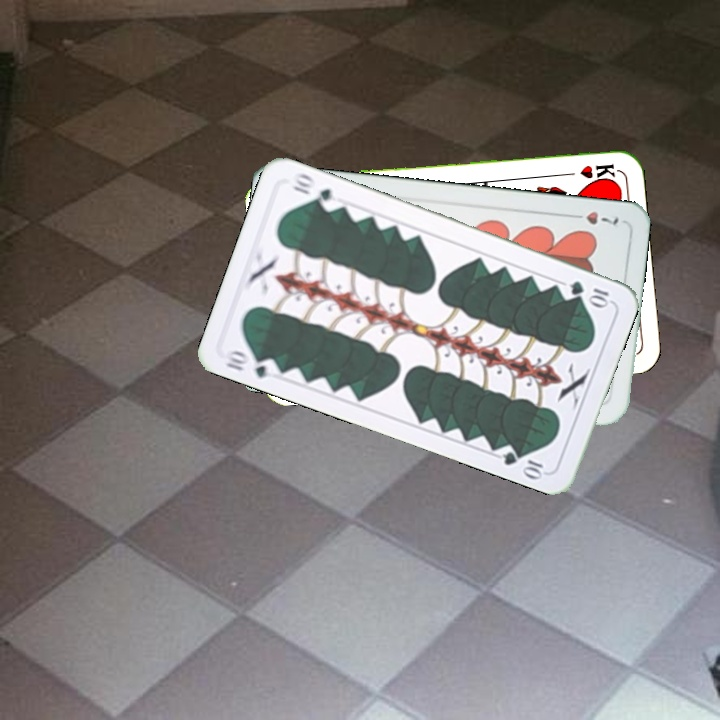G10: (221, 345, 281, 381), (565, 276, 613, 309)
H7: (565, 207, 621, 228)
HK: (558, 159, 618, 182)
